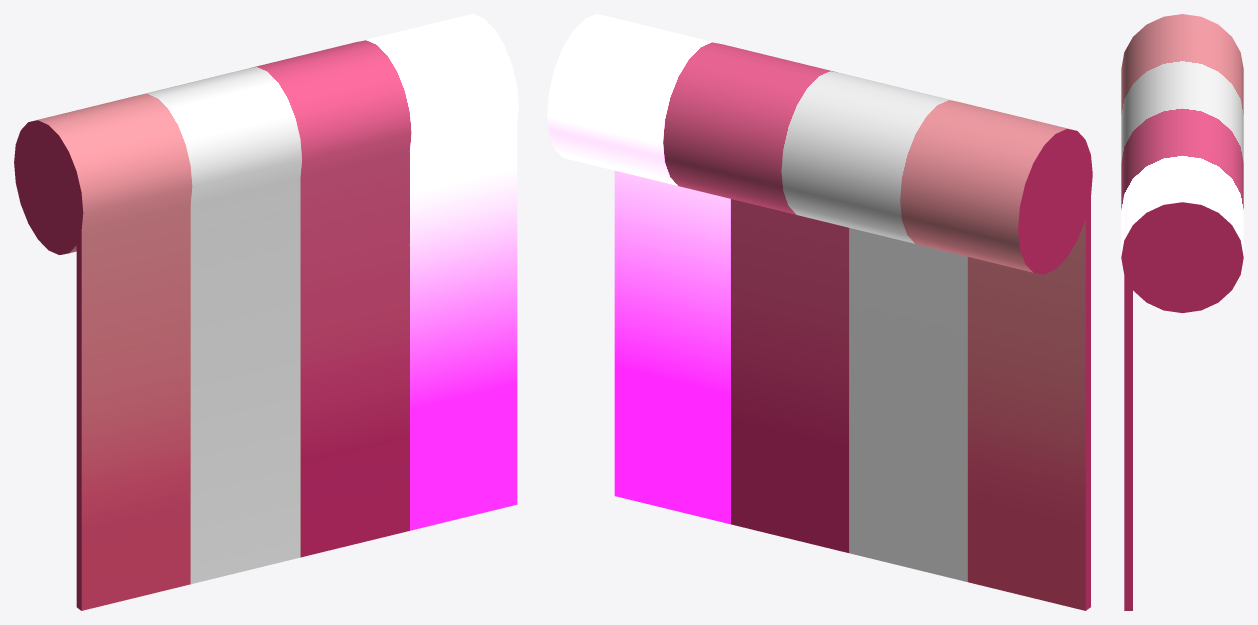
The model's file is ColorSet_03.glb.
3 views of the same model, side by side, from view 1: azimuth 30°, elevation 25°; view 2: azimuth 150°, elevation 25°; view 3: azimuth 270°, elevation 25° (orthographic). The views are drawn at different scales.
Parts seen in each view (by area): view 1: ColorSet_03; view 2: ColorSet_03; view 3: ColorSet_03.
Part boxes in pixels (bbox=[...]): ColorSet_03: bbox=[14, 14, 518, 610]; ColorSet_03: bbox=[547, 14, 1092, 610]; ColorSet_03: bbox=[1121, 14, 1243, 610].
Size of the model in its own units: 0.6697 by 0.6784 by 0.1842.
Materials: 1 (1 with a texture image).
